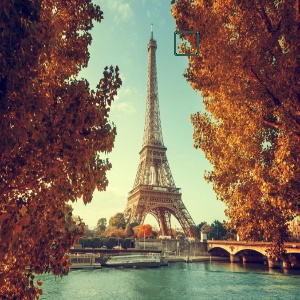square: (173, 30, 200, 57)
